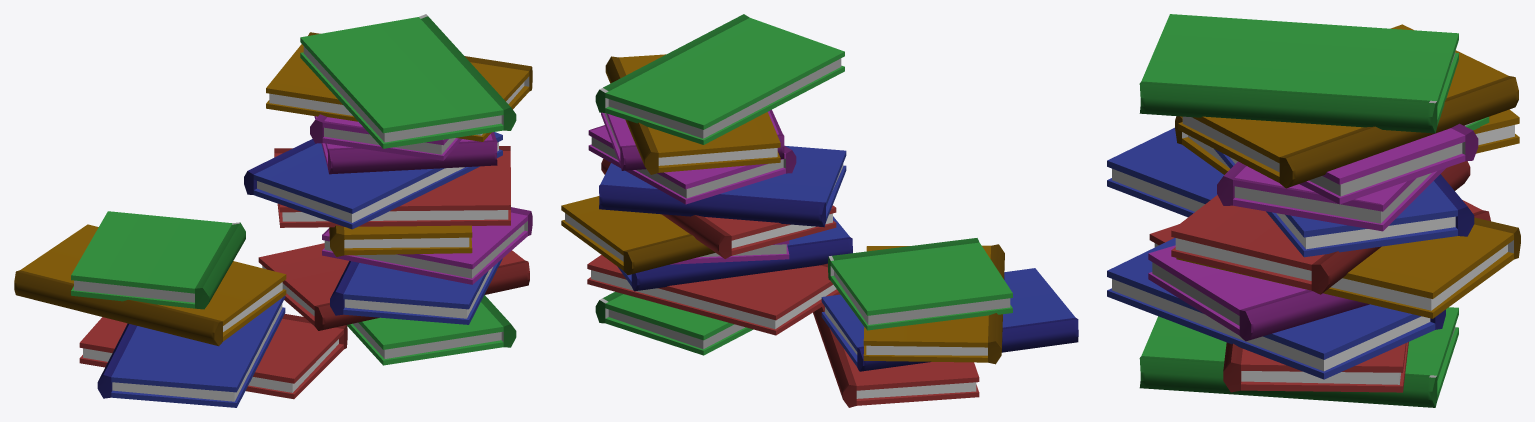
File: book pile 2.fbx
3 renders of one model, left to right at view 1: azimuth 30°, elevation 25°; view 2: azimuth 150°, elevation 25°; view 3: azimuth 270°, elevation 25°, orthographic. The views are drawn at different scales.
Visible parts, largest first — view 1: book15; view 2: book15; view 3: book15.
Boxes of the visible parts, box(x1,y1,x2,y2) form: book15: box(14, 14, 532, 407); book15: box(561, 14, 1078, 407); book15: box(1107, 14, 1520, 407).
Size of the model in its own units: 11.85 by 5.98 by 7.23.
